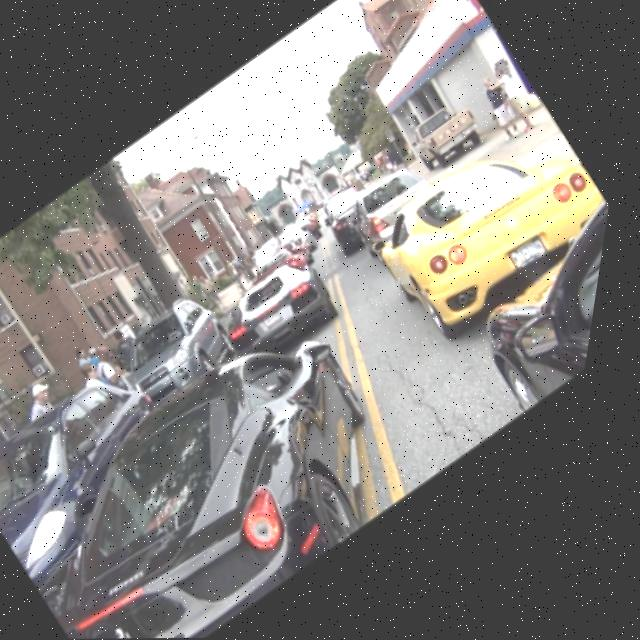license_plate: (512, 232, 559, 272)
